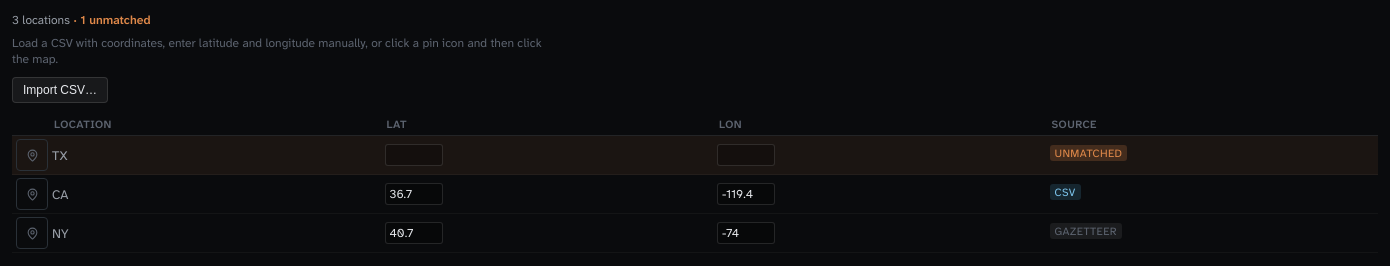
Test: LocationsPanel › rounds manual coordinate edits to two decimal places on commit
Type "31.236" into the number field named "Latitude for TX" at (414, 155), box [384, 144, 442, 166]
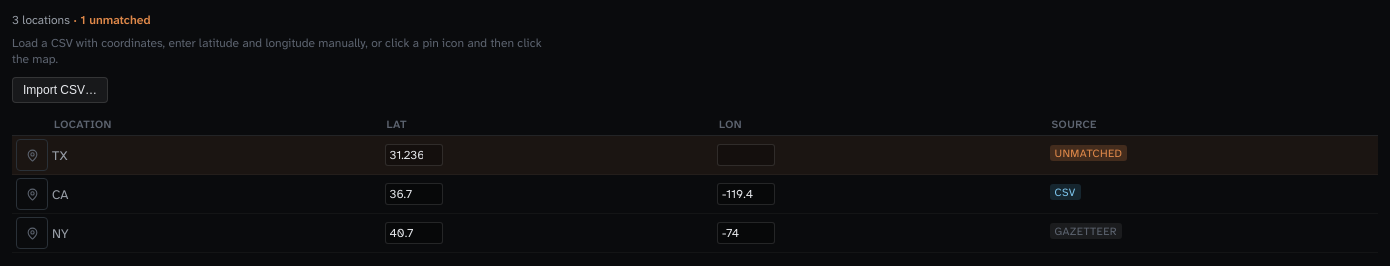
Type "-100.004" into the number field named "Longitude for TX" at (746, 155), box [717, 144, 775, 166]
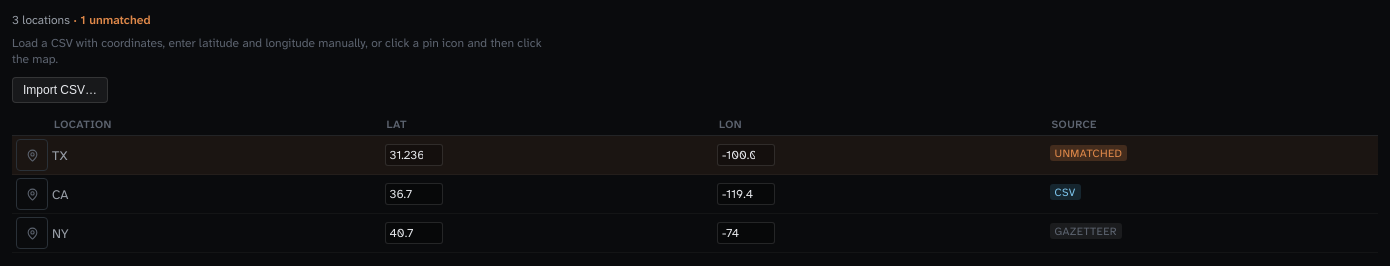
Leave the number field named "Longitude for TX", box [717, 144, 775, 166]
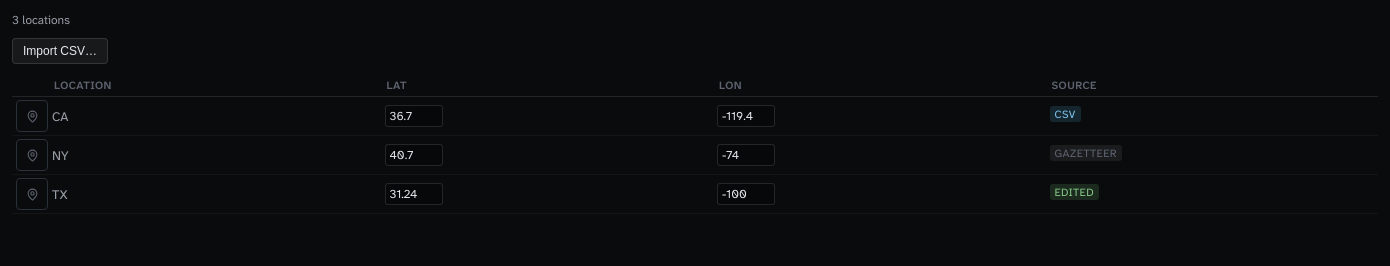
Now the number field named "Latitude for TX" holds "31.24", box [384, 183, 442, 205]
Now the number field named "Longitude for TX" holds "-100", box [717, 183, 775, 205]
